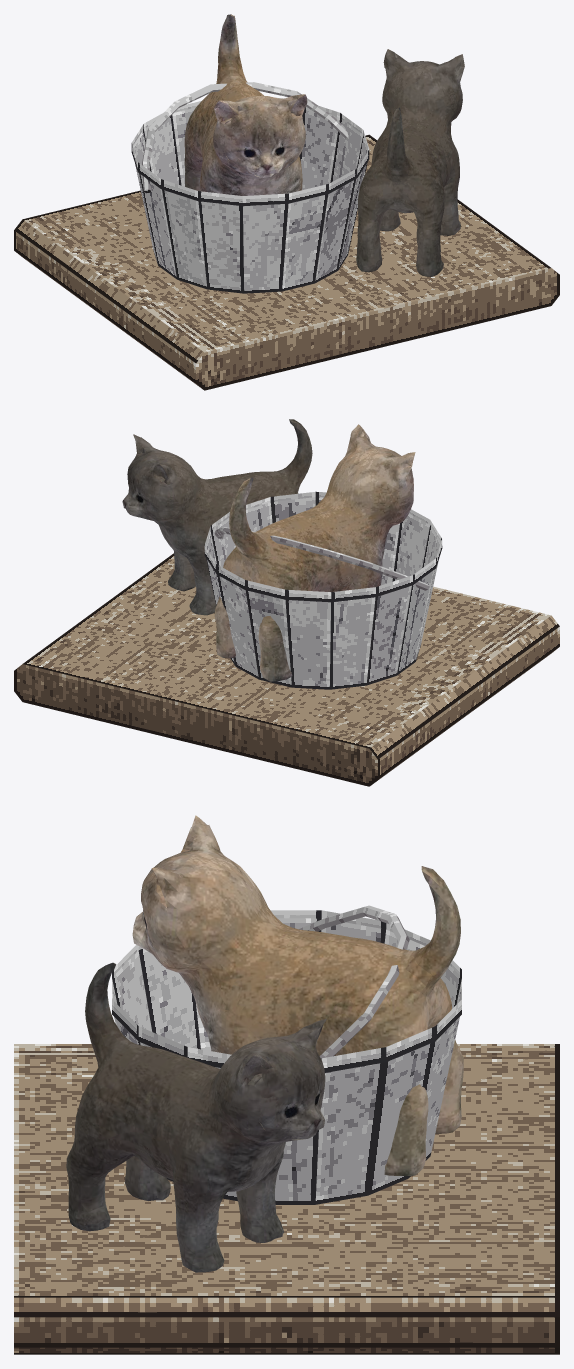
Rendered from kittens.glb.
3 renders of one model, top to bottom at view 1: azimuth 30°, elevation 25°; view 2: azimuth 150°, elevation 25°; view 3: azimuth 270°, elevation 25°, orthographic. The views are drawn at different scales.
Visible parts, largest first — view 1: base, bk_wall, model_kit2, model_kit1, bk_rim, bk_handle; view 2: base, bk_wall, model_kit1, model_kit2, bk_rim, bk_handle; view 3: base, model_kit1, model_kit2, bk_wall, bk_rim, bk_handle.
Boxes of the visible parts, x1,y1,x2,y2 form: base: (14,134,559,390); bk_wall: (133,107,368,293); model_kit2: (356,49,464,276); model_kit1: (184,14,307,195); bk_rim: (131,97,369,206); bk_handle: (142,82,348,193); base: (14,553,559,786); bk_wall: (206,497,440,689); model_kit1: (214,424,415,681); model_kit2: (122,419,312,615); bk_rim: (204,491,442,602); bk_handle: (214,527,429,590); base: (14,1044,559,1354); model_kit1: (132,815,463,1175); model_kit2: (66,962,326,1272); bk_wall: (112,918,461,1204); bk_rim: (112,910,461,1072); bk_handle: (299,905,409,1058).
Size of the model in its own units: 30 by 18.6 by 26.
4 materials, 4 textured.
